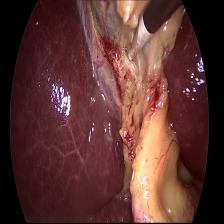Hook: (121, 7, 157, 63)
